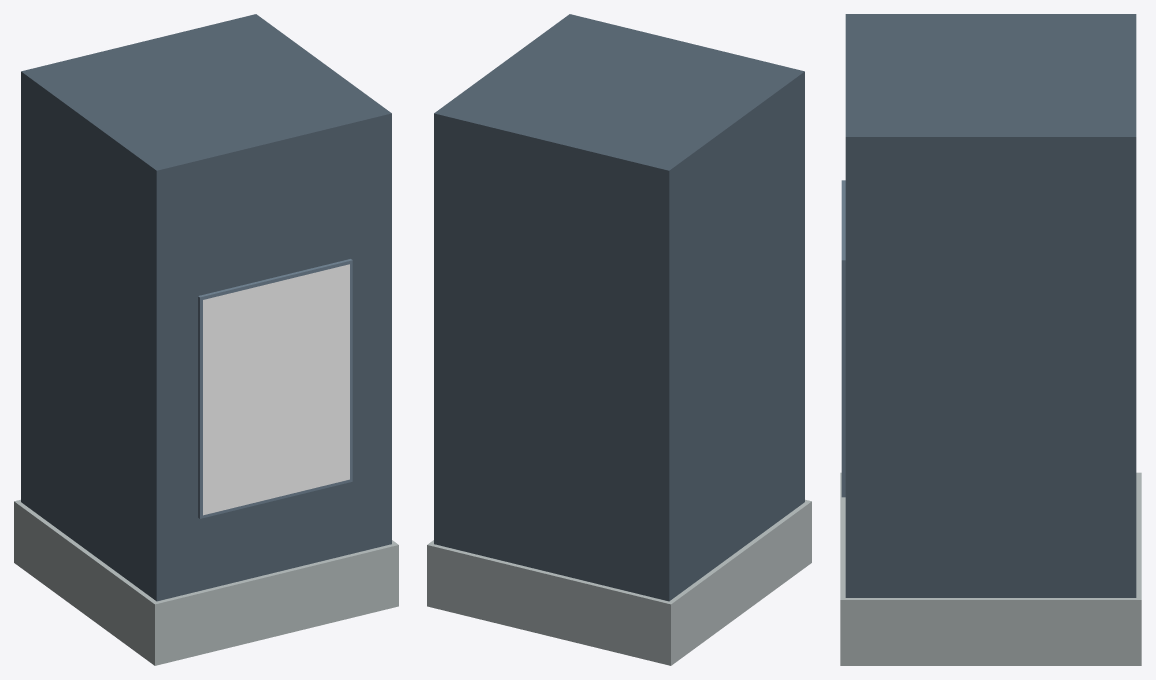
The model's file is building_tower_wall_ad.glb.
3 views of the same model, side by side, from view 1: azimuth 30°, elevation 25°; view 2: azimuth 150°, elevation 25°; view 3: azimuth 270°, elevation 25° (orthographic). The views are drawn at different scales.
Visible parts, largest first — view 1: Bldg_Tower_WallAd_Struct, Ad_Screen_Bldg_Tower_WallAd; view 2: Bldg_Tower_WallAd_Struct; view 3: Bldg_Tower_WallAd_Struct.
Boxes of the visible parts, box(x1,y1,x2,y2) form: Bldg_Tower_WallAd_Struct: box(14, 14, 398, 665); Ad_Screen_Bldg_Tower_WallAd: box(203, 264, 349, 515); Bldg_Tower_WallAd_Struct: box(427, 14, 811, 665); Bldg_Tower_WallAd_Struct: box(840, 14, 1141, 665).
Size of the model in its own units: 16.6 by 32 by 16.6.
